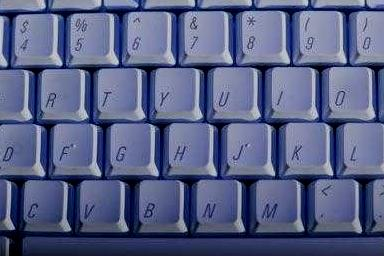0: (342, 7, 384, 64)
4: (7, 10, 63, 67)
5: (63, 8, 119, 65)
6: (119, 8, 175, 65)
7: (176, 8, 232, 65)
8: (234, 8, 289, 64)
9: (288, 7, 344, 64)
b: (132, 180, 187, 233)
c: (20, 179, 70, 232)
d: (1, 122, 41, 174)
f: (47, 122, 101, 174)
g: (108, 123, 158, 176)
h: (165, 122, 215, 175)
i: (263, 66, 317, 118)
j: (224, 122, 274, 175)
k: (283, 122, 333, 175)
l: (340, 123, 384, 176)
m: (253, 180, 303, 233)
n: (195, 181, 245, 234)
o: (320, 66, 374, 118)
r: (34, 66, 87, 118)
space: (20, 233, 384, 256)
t: (92, 68, 146, 120)
u: (205, 66, 259, 118)
v: (78, 179, 128, 232)
y: (150, 67, 204, 119)
